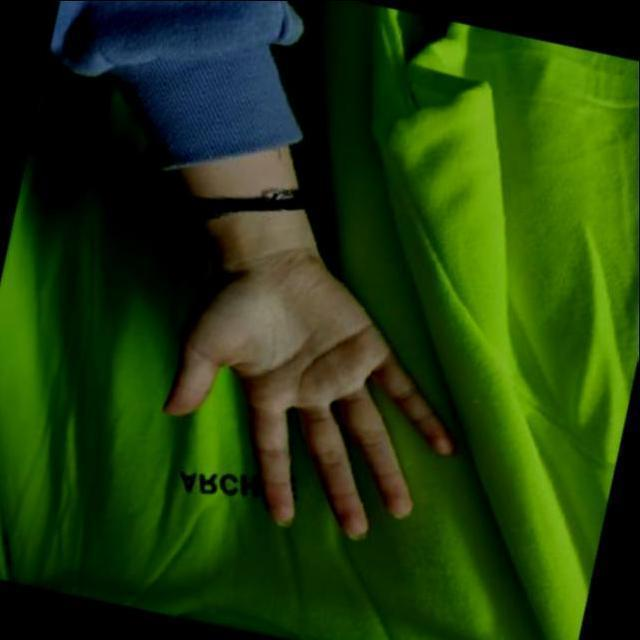hand: (122, 212, 504, 580)
